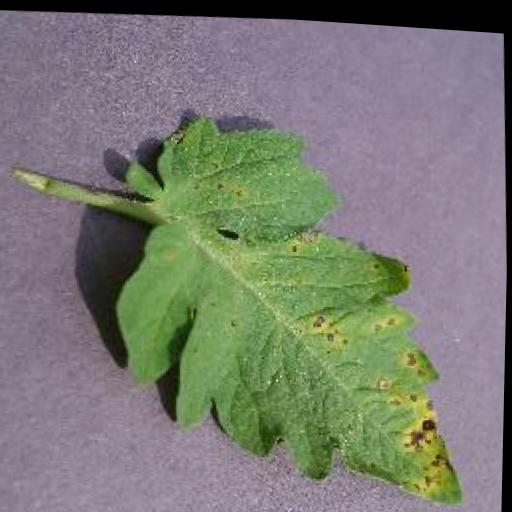Septoria: (104, 96, 474, 512)
